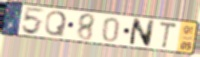0: (101, 16, 122, 43)
5: (21, 6, 47, 36)
8: (75, 13, 96, 42)
N: (128, 17, 157, 48)
Q: (44, 10, 69, 38)
T: (158, 20, 178, 50)
